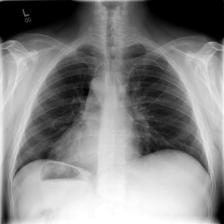normal: (8, 41, 213, 199)
